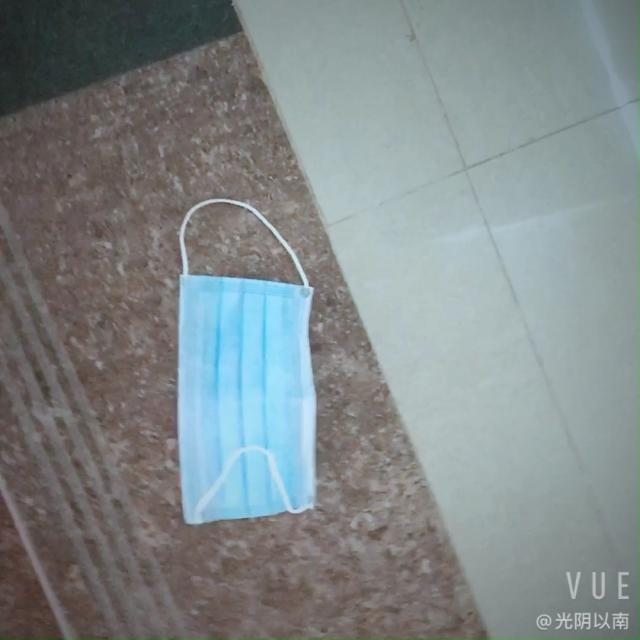face mask: (143, 264, 324, 536)
